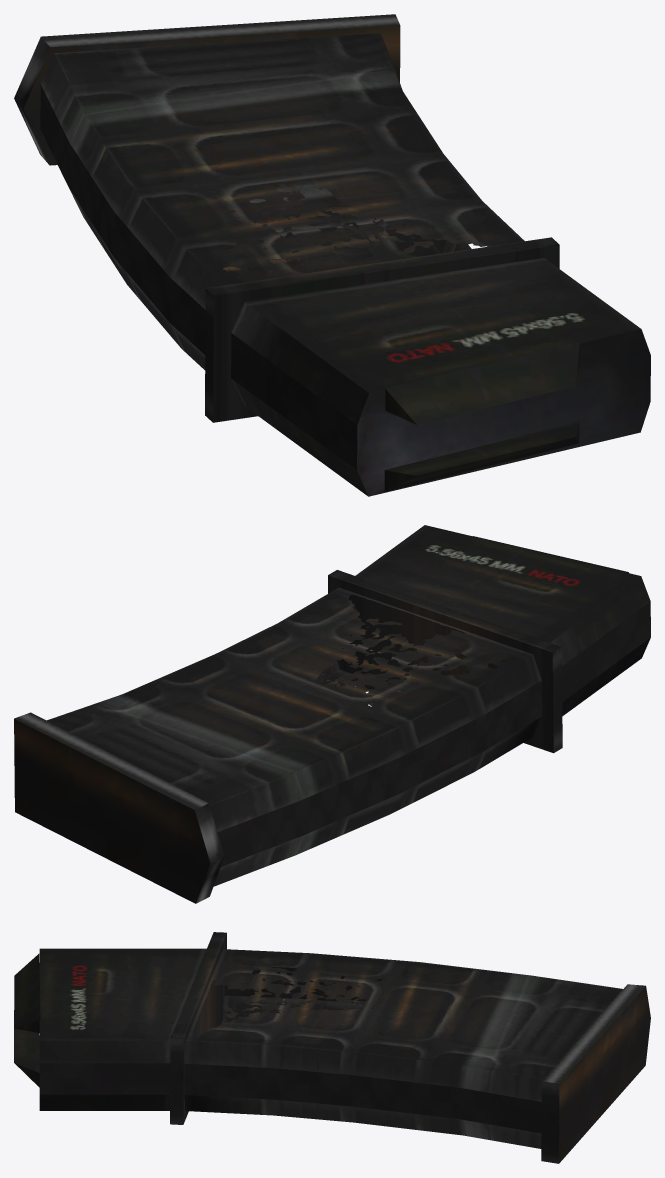
File: t6_attach_mag_xm8_world_LOD0.obj
The picture shows the model from 3 angles, top to bottom: view 1: azimuth 30°, elevation 25°; view 2: azimuth 150°, elevation 25°; view 3: azimuth 270°, elevation 25°; orthographic projection. The views are drawn at different scales.
Visible parts, largest first — view 1: mtl_t6_wpn_ar_xm8, mtl_t6_wpn_ar_xm8_camo3; view 2: mtl_t6_wpn_ar_xm8, mtl_t6_wpn_ar_xm8_camo3; view 3: mtl_t6_wpn_ar_xm8, mtl_t6_wpn_ar_xm8_camo3.
Part boxes in pixels (left/top/right/bottom): mtl_t6_wpn_ar_xm8: left=14, top=14, right=650, bottom=496; mtl_t6_wpn_ar_xm8_camo3: left=40, top=84, right=357, bottom=469; mtl_t6_wpn_ar_xm8: left=14, top=525, right=650, bottom=903; mtl_t6_wpn_ar_xm8_camo3: left=217, top=601, right=650, bottom=866; mtl_t6_wpn_ar_xm8: left=14, top=932, right=650, bottom=1163; mtl_t6_wpn_ar_xm8_camo3: left=39, top=967, right=541, bottom=1133.
Size of the model in its own units: 10.78 by 3.06 by 20.
